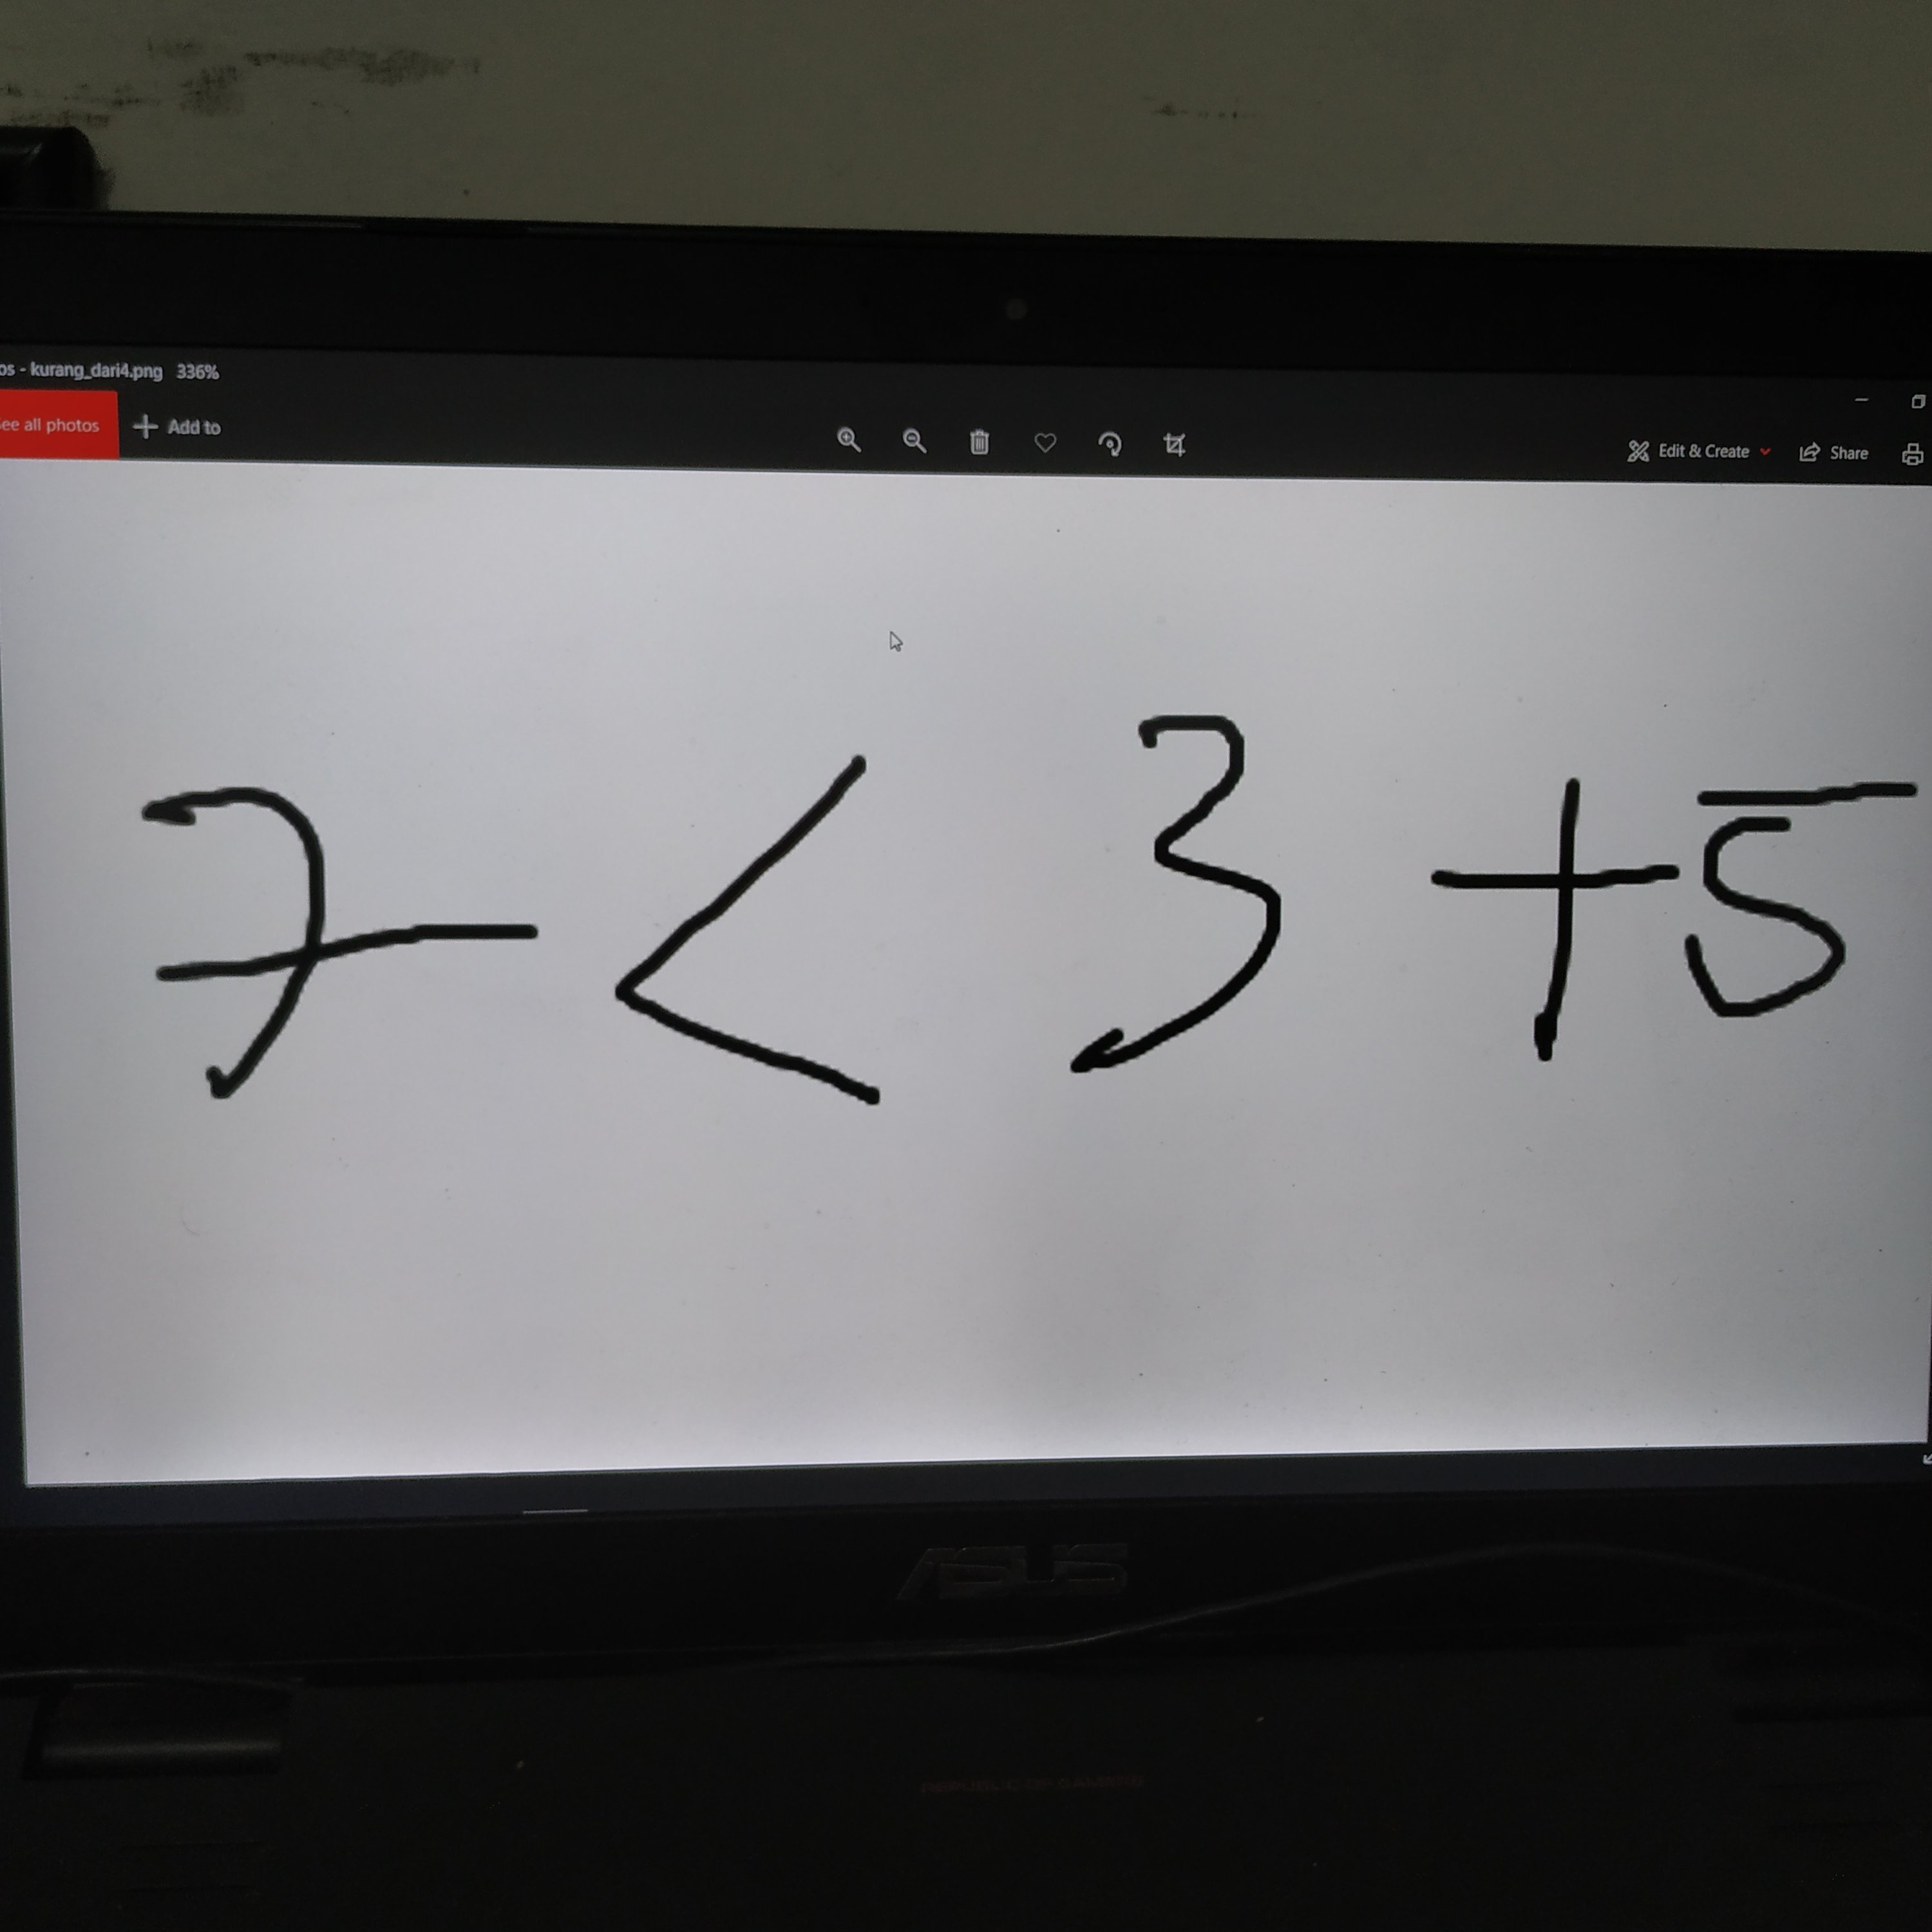lessthan: (574, 721, 938, 1141)
num3: (1048, 696, 1298, 1090)
num5: (1662, 772, 1932, 1032)
num7: (80, 768, 578, 1117)
sum: (1421, 749, 1690, 1081)
